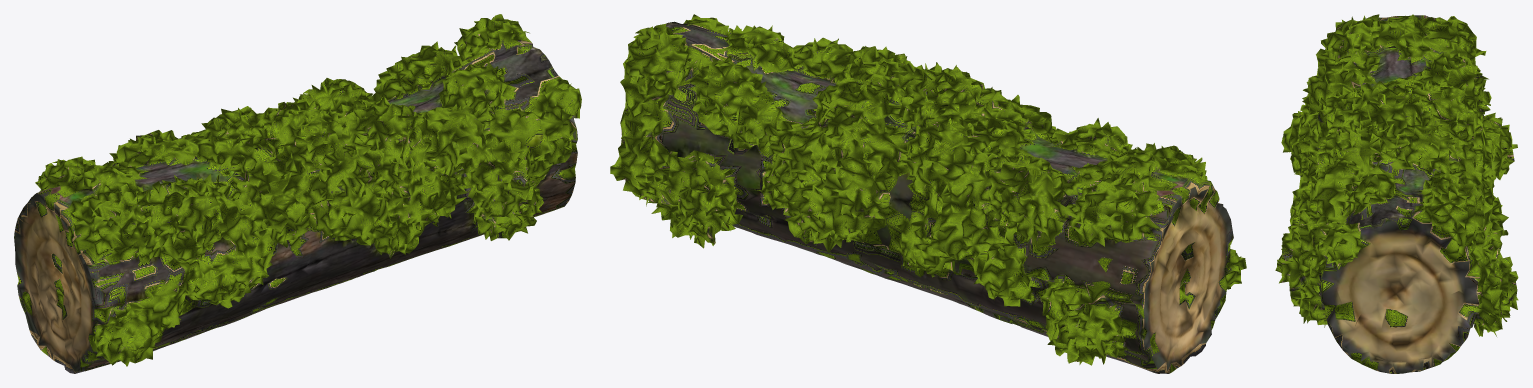
The picture shows the model from 3 angles, left to right: view 1: azimuth 30°, elevation 25°; view 2: azimuth 150°, elevation 25°; view 3: azimuth 270°, elevation 25°; orthographic projection. The views are drawn at different scales.
Bounding box in the file's own units: 1.89 × 0.7813 × 0.794.
Materials: 1 (1 with a texture image).
